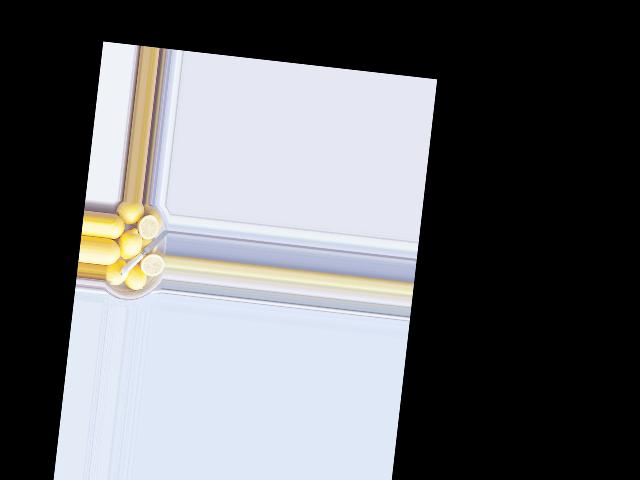lemon: (115, 200, 147, 227)
